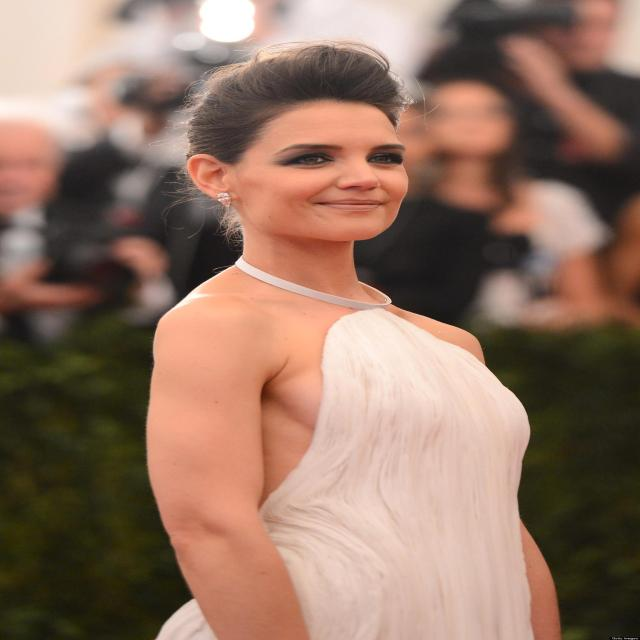no-earmuff: (186, 154, 232, 201)
